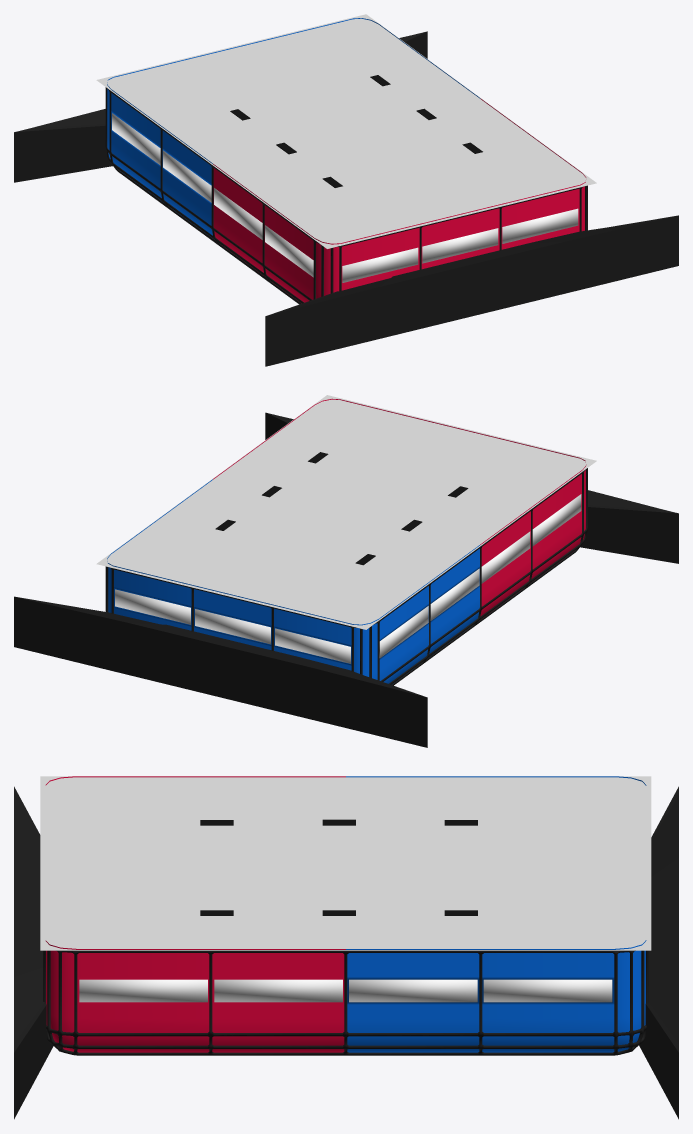
File: pitch.fbx
3 views of the same model, one above another, from view 1: azimuth 30°, elevation 25°; view 2: azimuth 150°, elevation 25°; view 3: azimuth 270°, elevation 25° (orthographic). The views are drawn at different scales.
Visible parts, largest first — view 1: Plane, Goal.001, Pitch, Windows, Goal, Cage; view 2: Plane, Goal, Pitch, Windows, Goal.001, Cage; view 3: Plane, Pitch, Windows, Cage, Goal, Goal.001.
Boxes of the visible parts, x1,y1,x2,y2 form: Plane: (96, 14, 596, 248); Goal.001: (265, 215, 678, 366); Pitch: (107, 18, 586, 302); Windows: (112, 113, 578, 282); Goal: (14, 31, 427, 182); Cage: (105, 87, 587, 304); Plane: (96, 395, 596, 629); Goal: (14, 596, 427, 747); Pitch: (107, 398, 586, 683); Windows: (115, 494, 581, 663); Goal.001: (265, 412, 678, 563); Cage: (105, 468, 587, 685); Plane: (40, 776, 651, 950); Pitch: (45, 776, 646, 1052); Windows: (79, 979, 612, 1002); Cage: (43, 950, 648, 1055); Goal: (639, 786, 678, 1119); Goal.001: (14, 786, 53, 1119).
Size of the model in its own units: 103 by 22.36 by 109.
